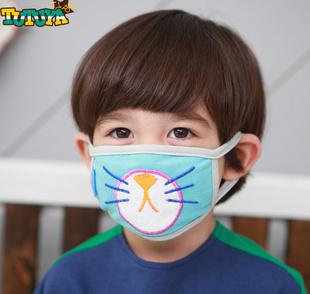OK: (96, 109, 217, 230)
